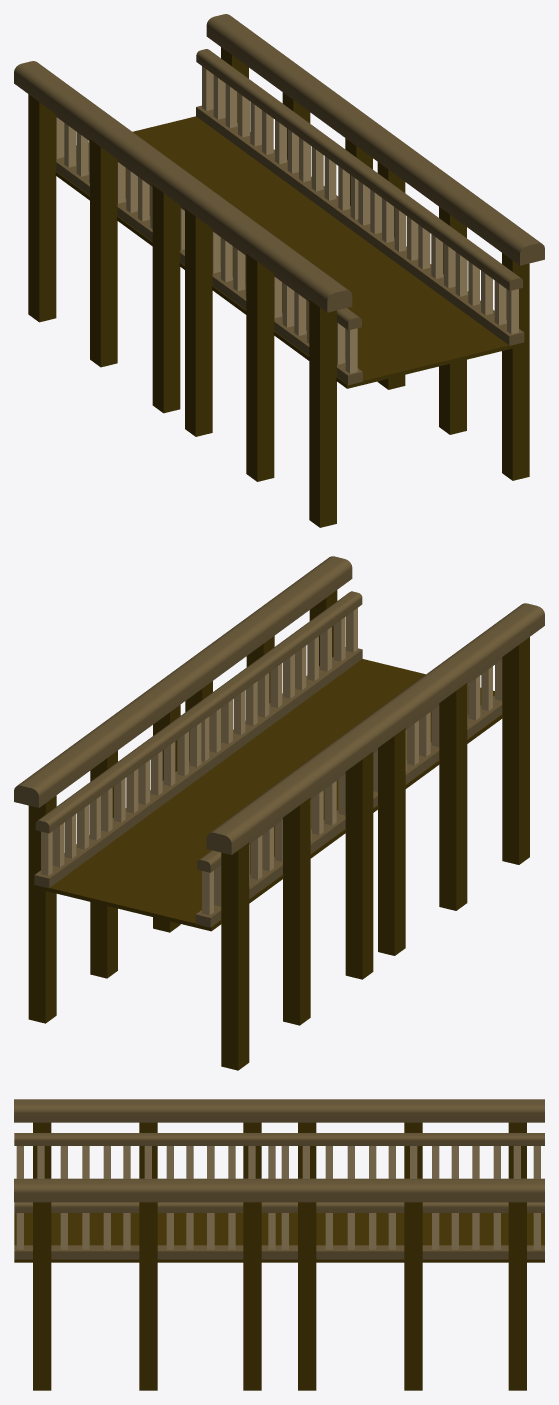
Rendered from Pier.FBX.
3 views of the same model, one above another, from view 1: azimuth 30°, elevation 25°; view 2: azimuth 150°, elevation 25°; view 3: azimuth 270°, elevation 25° (orthographic). The views are drawn at different scales.
Visible parts, largest first — view 1: pCube2, pCube37, pCube80, pCube19, pCube91, pCube54, pCube89, pCube20, pCube79, pCube18, pCube28, pCube40 (+22 smaller); view 2: pCube89, pCube54, pCube91, pCube19, pCube80, pCube37, pCube2, pCube79, pCube18, pCube20, pCube65, pCube75 (+22 smaller); view 3: pCube2, pCube37, pCube89, pCube54, pCube27, pCube28, pCube39, pCube53, pCube65, pCube70, pCube3, pCube48 (+24 smaller).
Boxes of the visible parts, bbox=[...] form: pCube2: bbox=[170, 175, 352, 312]; pCube37: bbox=[363, 128, 544, 265]; pCube80: bbox=[152, 185, 180, 413]; pCube19: bbox=[246, 254, 274, 481]; pCube91: bbox=[28, 94, 56, 322]; pCube54: bbox=[206, 14, 384, 150]; pCube89: bbox=[14, 61, 192, 197]; pCube20: bbox=[309, 300, 336, 527]; pCube79: bbox=[90, 139, 117, 367]; pCube18: bbox=[185, 209, 212, 436]; pCube28: bbox=[502, 253, 529, 480]; pCube40: bbox=[336, 329, 523, 388]; pCube89: bbox=[206, 718, 388, 854]; pCube54: bbox=[14, 671, 195, 807]; pCube91: bbox=[221, 842, 249, 1070]; pCube19: bbox=[439, 683, 467, 910]; pCube80: bbox=[345, 752, 373, 979]; pCube37: bbox=[173, 556, 352, 692]; pCube2: bbox=[366, 603, 544, 739]; pCube79: bbox=[283, 797, 310, 1025]; pCube18: bbox=[378, 728, 405, 955]; pCube20: bbox=[502, 637, 529, 864]; pCube65: bbox=[28, 795, 56, 1023]; pCube75: bbox=[34, 868, 221, 931]; pCube2: bbox=[14, 1099, 279, 1122]; pCube37: bbox=[14, 1179, 279, 1202]; pCube89: bbox=[279, 1099, 544, 1122]; pCube54: bbox=[279, 1179, 544, 1202]; pCube27: bbox=[139, 1202, 157, 1390]; pCube28: bbox=[33, 1202, 51, 1390]; pCube39: bbox=[243, 1202, 261, 1390]; pCube53: bbox=[298, 1202, 316, 1390]; pCube65: bbox=[508, 1202, 526, 1390]; pCube70: bbox=[404, 1202, 422, 1390]; pCube3: bbox=[14, 1133, 279, 1145]; pCube48: bbox=[279, 1133, 544, 1145].
Size of the model in its own units: 5.79 by 6.16 by 14.43.
